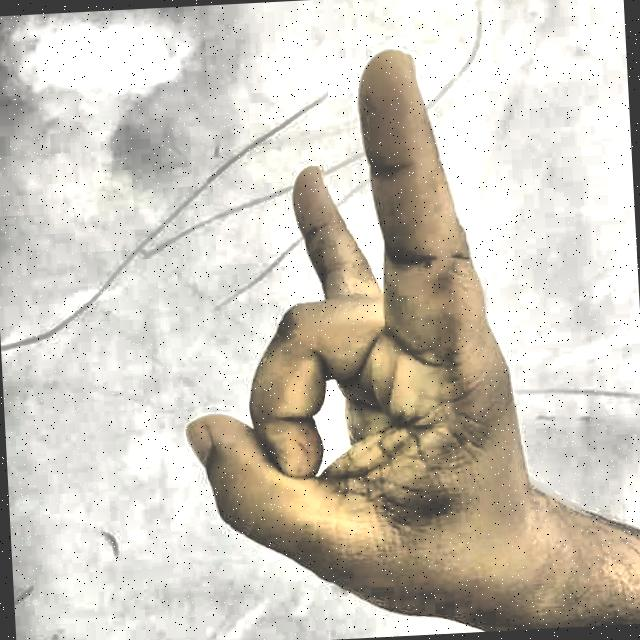Cha: (86, 12, 569, 640)
